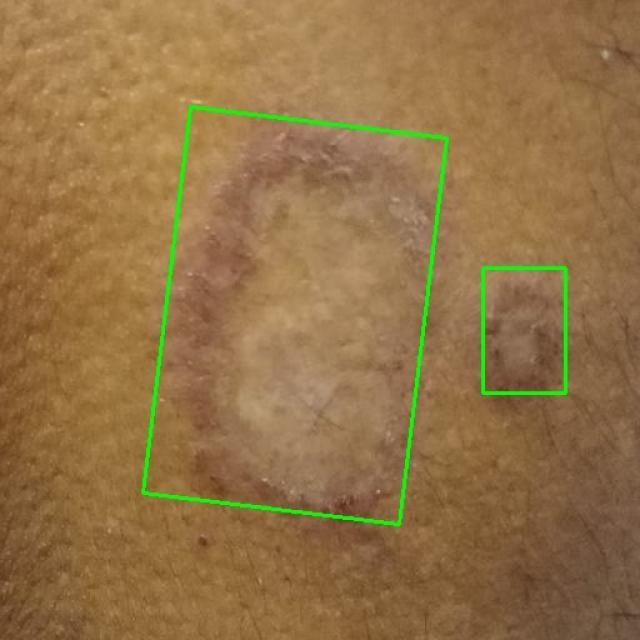Tinea Corporis: (143, 107, 447, 525), (482, 268, 565, 392)
